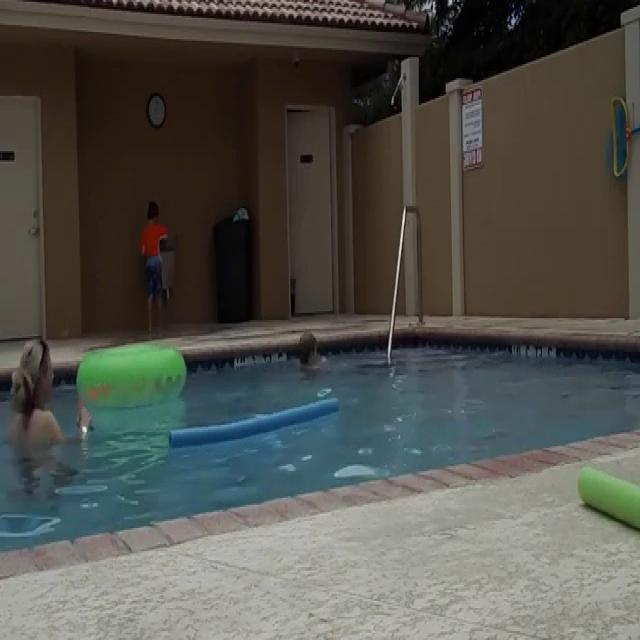adult: (9, 340, 93, 460)
child: (140, 202, 169, 338), (291, 322, 332, 372)
